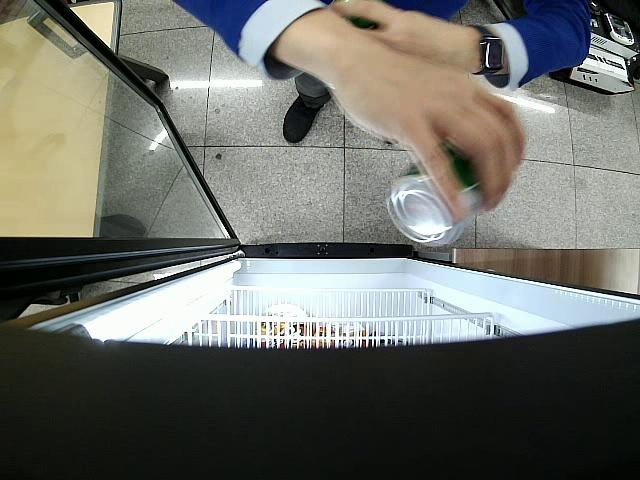00_hand: (288, 18, 525, 221)
12_chilsungCider: (387, 141, 481, 247)
